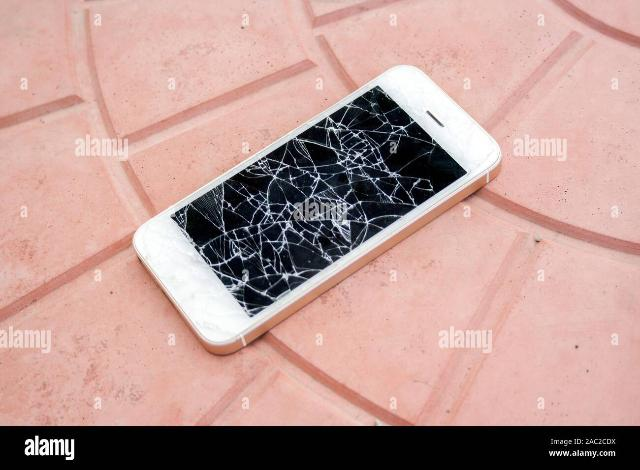Crack: (123, 61, 540, 358)
